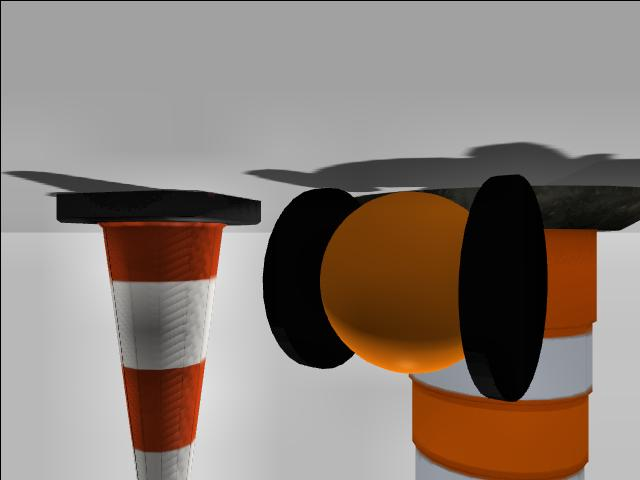target: (260, 172, 546, 402)
